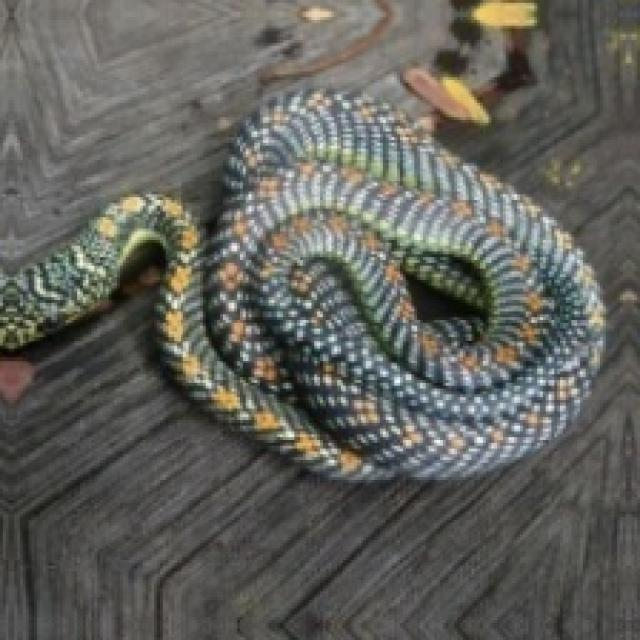paradise tree snake: (0, 91, 603, 477)
